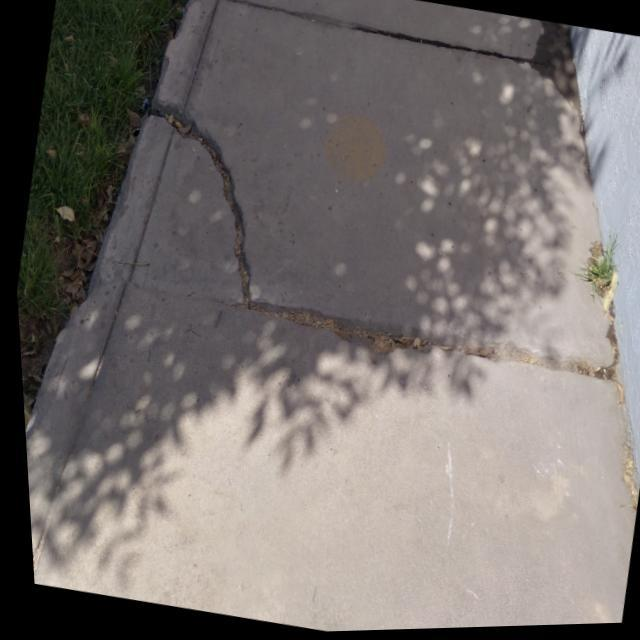hole: (54, 250, 625, 430)
